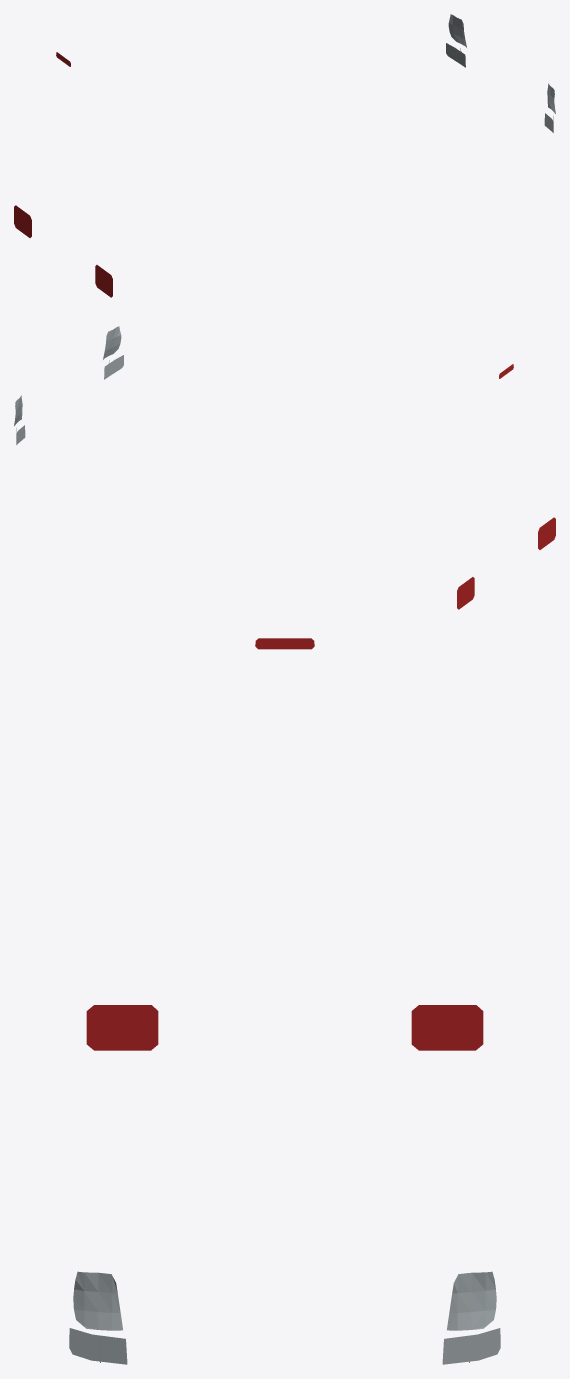
The model's file is kei-minicab-ds64v-c740a2b7-lamps.glb.
The picture shows the model from 3 angles, top to bottom: view 1: azimuth 30°, elevation 25°; view 2: azimuth 150°, elevation 25°; view 3: azimuth 270°, elevation 25°; orthographic projection. The views are drawn at different scales.
Parts seen in each view (by area): view 1: Right_Tail_Lamp, Left_Tail_Lamp, Left_Headlight_Reflector; view 2: Left_Tail_Lamp, Right_Tail_Lamp, Right_Headlight_Reflector; view 3: Right_Tail_Lamp, Left_Tail_Lamp, Right_Headlight_Reflector, Left_Headlight_Reflector, Left_Headlight_Lower_Clear, Right_Headlight_Lower_Clear.
Boxes of the visible parts, x1,y1,x2,y2 form: Right_Tail_Lamp: [95, 265, 112, 297]; Left_Tail_Lamp: [14, 205, 31, 237]; Left_Headlight_Reflector: [448, 14, 466, 47]; Left_Tail_Lamp: [457, 577, 474, 609]; Right_Tail_Lamp: [538, 517, 555, 549]; Right_Headlight_Reflector: [103, 326, 121, 359]; Right_Tail_Lamp: [86, 1005, 158, 1050]; Left_Tail_Lamp: [411, 1005, 483, 1050]; Right_Headlight_Reflector: [73, 1271, 122, 1330]; Left_Headlight_Reflector: [447, 1271, 496, 1330]; Left_Headlight_Lower_Clear: [442, 1328, 500, 1364]; Right_Headlight_Lower_Clear: [69, 1328, 127, 1364].
Bounding box in the file's own units: 3.35 × 1.49 × 1.41.
